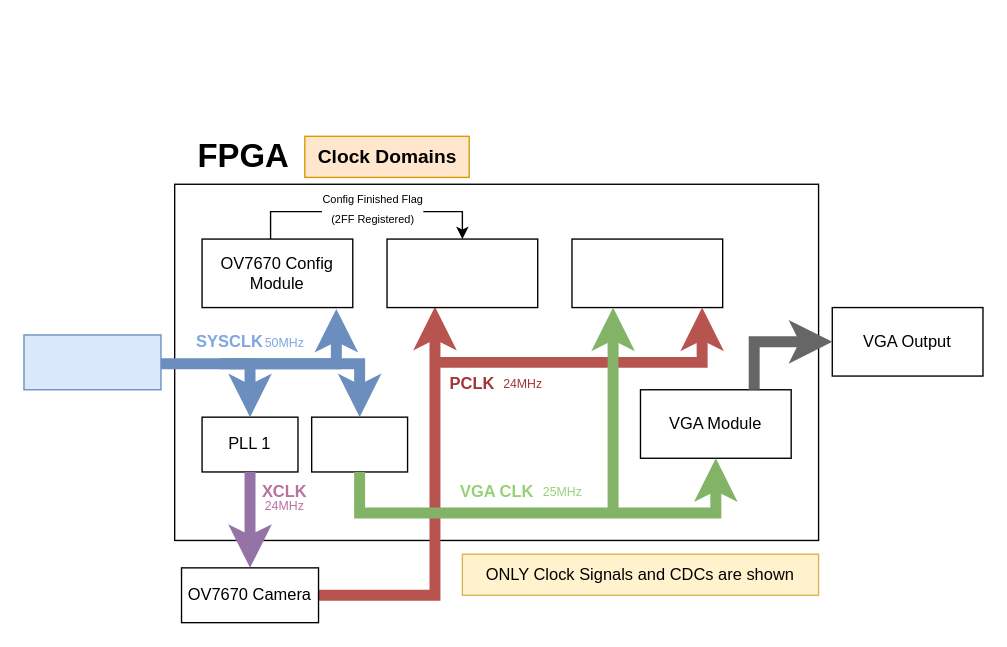
Some shapes in this 1007 by 647 pixel diagram are drawn without their labels. The box of each missing label's shape, as (x1, y1, x2, y2) in pixels:
External 50MHz XTAL: (23, 334, 161, 390)
Framebuffer BRAM (Dual Port Async): (571, 238, 723, 308)
OV7670 Capture Module: (386, 238, 538, 308)
PLL 2: (310, 416, 408, 472)
